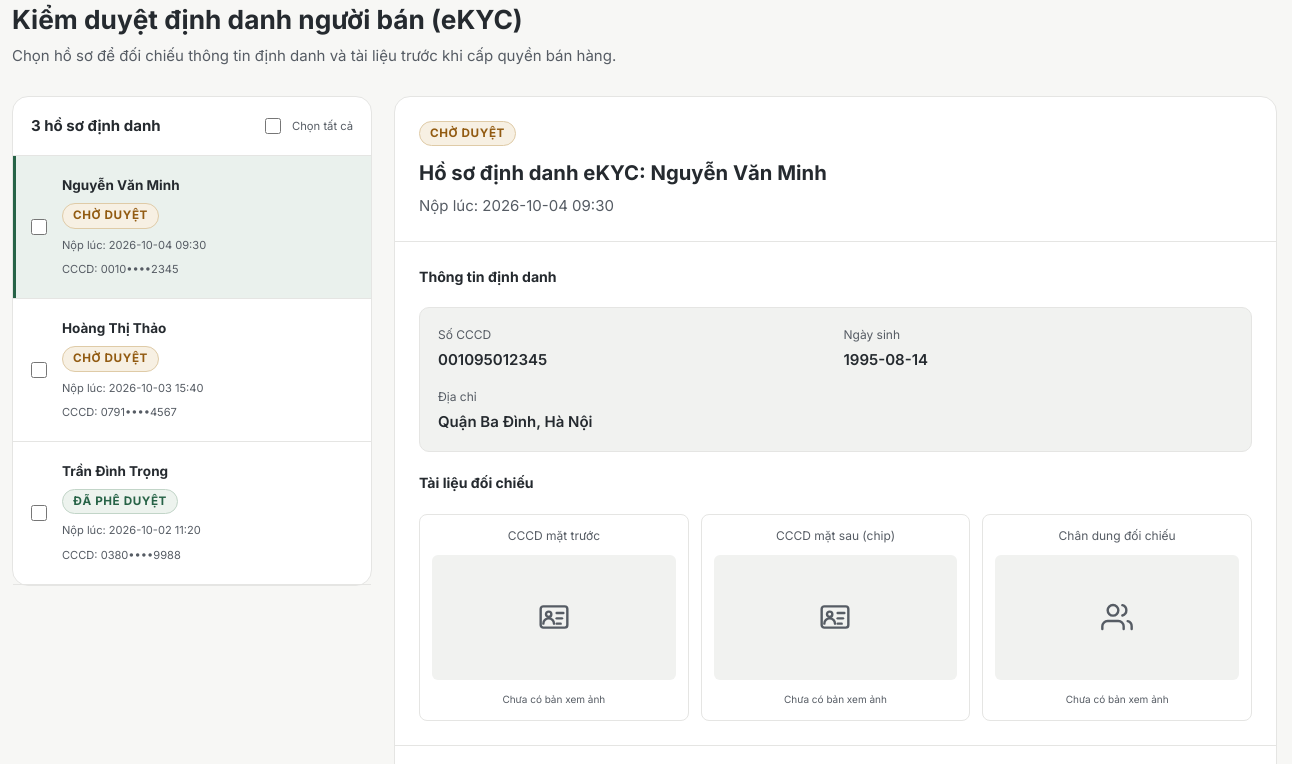
Test: eKYC presentation › completed cards retain document access without exposing a second approval action
Click the button with aria-label "Xem hồ sơ Trần Đình Trọng": (115, 471) [58,454,357,572]
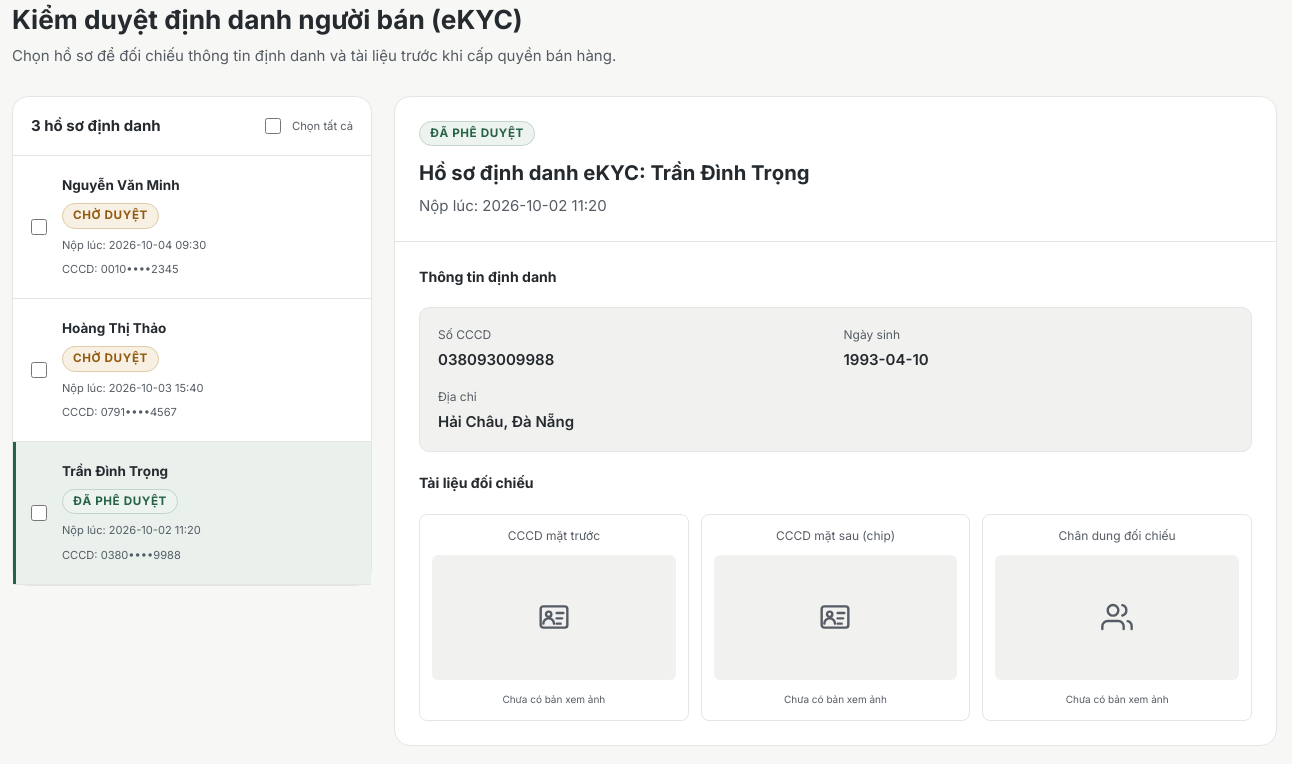
Expected: the heading "Hồ sơ định danh eKYC: Trần Đình Trọng" is shown, [419,158,810,189]
